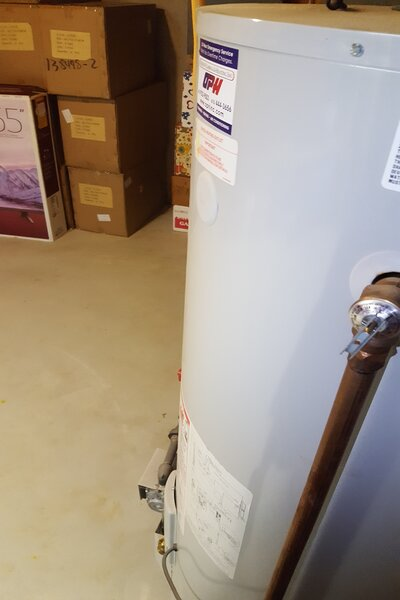valve: (341, 269, 400, 379)
